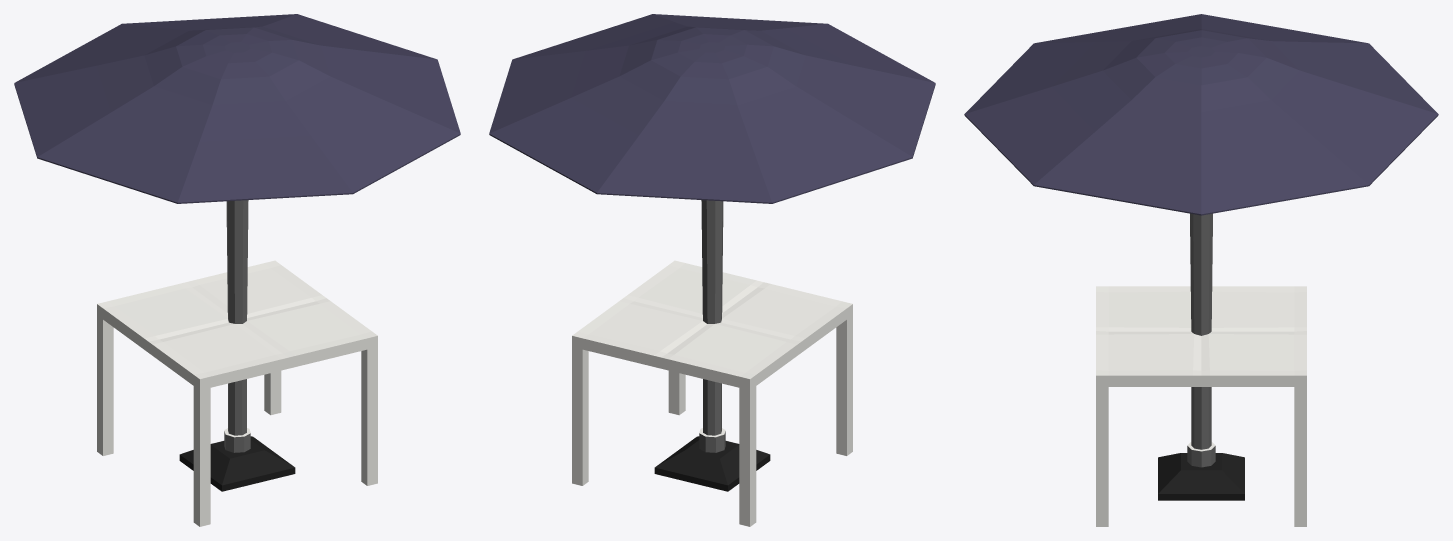
File: Tori_KojuPöytä_Varjolla.fbx
3 renders of one model, left to right at view 1: azimuth 30°, elevation 25°; view 2: azimuth 150°, elevation 25°; view 3: azimuth 270°, elevation 25°, orthographic. The views are drawn at different scales.
Visible parts, largest first — view 1: Koju Pöytä Varjolla; view 2: Koju Pöytä Varjolla; view 3: Koju Pöytä Varjolla.
Boxes of the visible parts, bbox=[...] form: Koju Pöytä Varjolla: bbox=[14, 14, 460, 526]; Koju Pöytä Varjolla: bbox=[489, 14, 935, 526]; Koju Pöytä Varjolla: bbox=[964, 14, 1438, 526].
Bounding box in the file's own units: 225 × 225 × 225.
